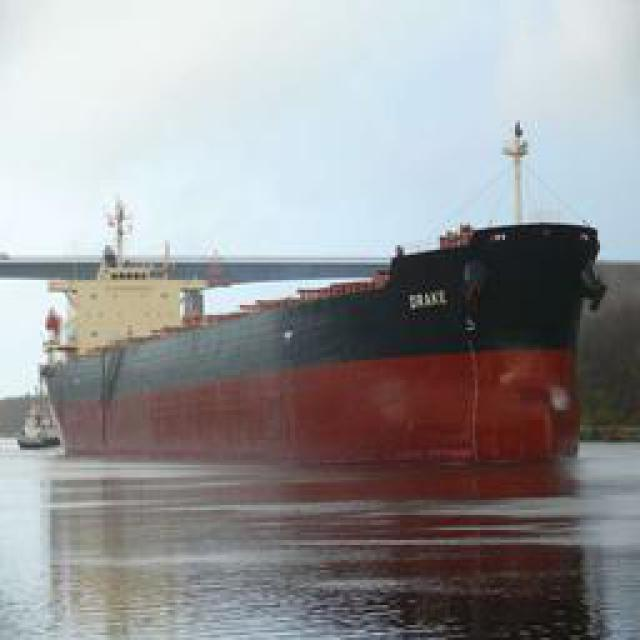Ship: (25, 126, 616, 491)
